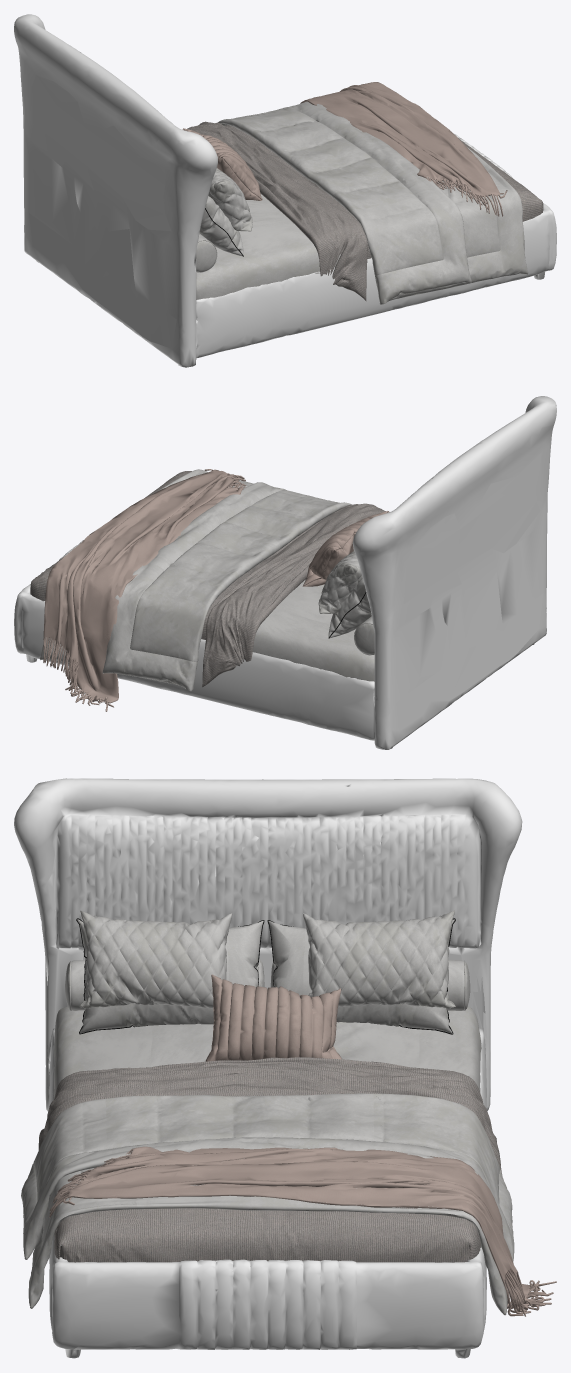
File: bed.glb
3 renders of one model, top to bottom at view 1: azimuth 30°, elevation 25°; view 2: azimuth 150°, elevation 25°; view 3: azimuth 270°, elevation 25°, orthographic. The views are drawn at different scales.
Visible parts, largest first — view 1: SketchUp, SketchUp_Instance_5, SketchUp_Instance_5.002, SketchUp_Instance_2, SketchUp_Instance_3, SketchUp_Instance_1, group_1, SketchUp_Instance_5.001, SketchUp_Instance_4, SketchUp_Instance_0, SketchUp_Instance_6; view 2: SketchUp, SketchUp_Instance_2, SketchUp_Instance_5, SketchUp_Instance_3, SketchUp_Instance_5.002, SketchUp_Instance_1, group_1, SketchUp_Instance_4, SketchUp_Instance_0, SketchUp_Instance_6; view 3: SketchUp, group_1, SketchUp_Instance_2, SketchUp_Instance_5, SketchUp_Instance_0, SketchUp_Instance_3, SketchUp_Instance_5.002, SketchUp_Instance_1, SketchUp_Instance_4.
Boxes of the visible parts, x1,y1,x2,y2 form: SketchUp: (14, 14, 556, 367); SketchUp_Instance_5: (218, 107, 444, 275); SketchUp_Instance_5.002: (285, 101, 528, 304); SketchUp_Instance_2: (300, 82, 507, 216); SketchUp_Instance_3: (187, 121, 367, 301); SketchUp_Instance_1: (196, 194, 340, 299); group_1: (196, 168, 252, 272); SketchUp_Instance_5.001: (434, 180, 500, 257); SketchUp_Instance_4: (183, 128, 262, 200); SketchUp_Instance_0: (396, 92, 543, 221); SketchUp_Instance_6: (224, 125, 371, 258); SketchUp: (14, 396, 556, 749); SketchUp_Instance_2: (43, 469, 246, 711); SketchUp_Instance_5: (130, 489, 351, 661); SketchUp_Instance_3: (202, 503, 385, 687); SketchUp_Instance_5.002: (40, 469, 284, 691); SketchUp_Instance_1: (252, 579, 374, 681); group_1: (318, 551, 374, 655); SketchUp_Instance_4: (302, 511, 389, 586); SketchUp_Instance_0: (30, 471, 191, 601); SketchUp_Instance_6: (201, 518, 324, 639); SketchUp: (14, 778, 522, 1358); group_1: (65, 910, 470, 1034); SketchUp_Instance_2: (49, 1146, 556, 1316); SketchUp_Instance_5: (33, 1093, 499, 1203); SketchUp_Instance_0: (54, 1207, 481, 1262); SketchUp_Instance_3: (38, 1057, 502, 1174); SketchUp_Instance_5.002: (21, 1137, 514, 1315); SketchUp_Instance_1: (54, 1006, 481, 1098); SketchUp_Instance_4: (205, 974, 341, 1061).
Size of the model in its own units: 1.97 by 1.16 by 1.72.
4 materials, 4 textured.
